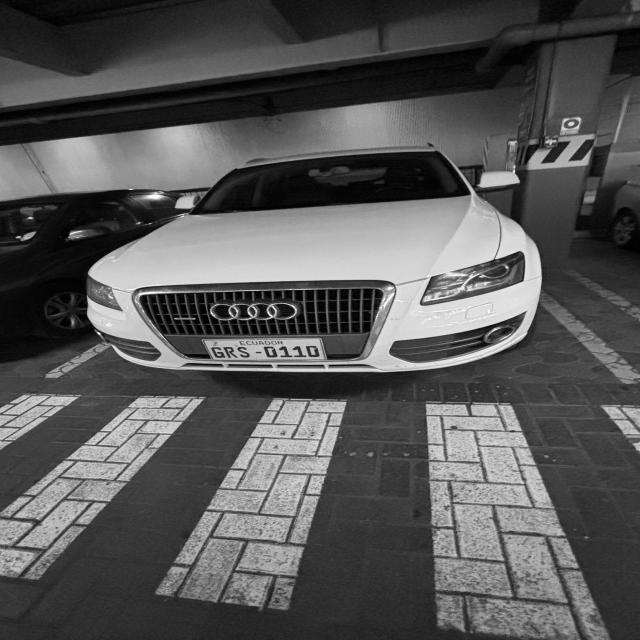Placa: (203, 338, 325, 362)
